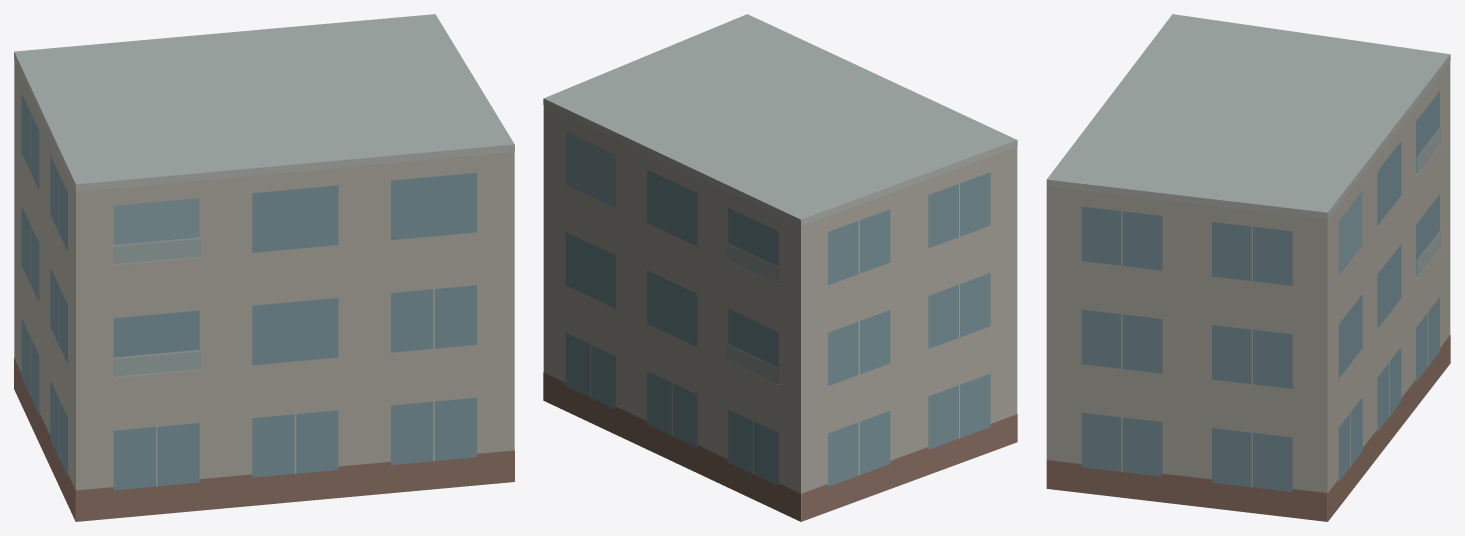
The model's file is survey-upis-32742322.glb.
3 renders of one model, left to right at view 1: azimuth 30°, elevation 25°; view 2: azimuth 150°, elevation 25°; view 3: azimuth 270°, elevation 25°, orthographic. The views are drawn at different scales.
Visible parts, largest first — view 1: survey-upis-32742322.tmp; view 2: survey-upis-32742322.tmp; view 3: survey-upis-32742322.tmp.
Boxes of the visible parts, x1,y1,x2,y2 form: survey-upis-32742322.tmp: (14, 14, 514, 521); survey-upis-32742322.tmp: (543, 14, 1017, 521); survey-upis-32742322.tmp: (1046, 14, 1450, 521).
Bounding box in the file's own units: 15.45 × 11.2 × 13.27.
